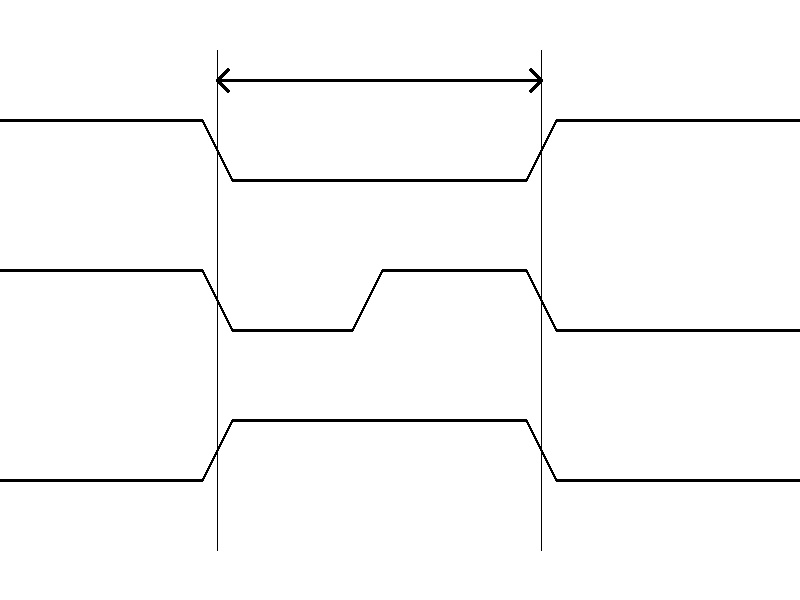double_arrow: (217, 65, 541, 95)
